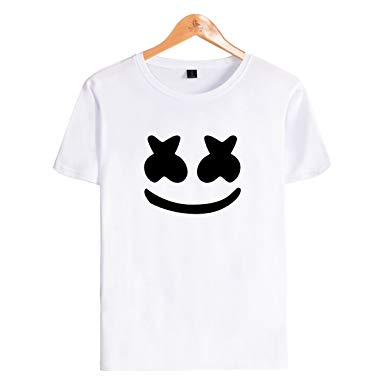T-Shirt: (49, 48, 332, 377)
